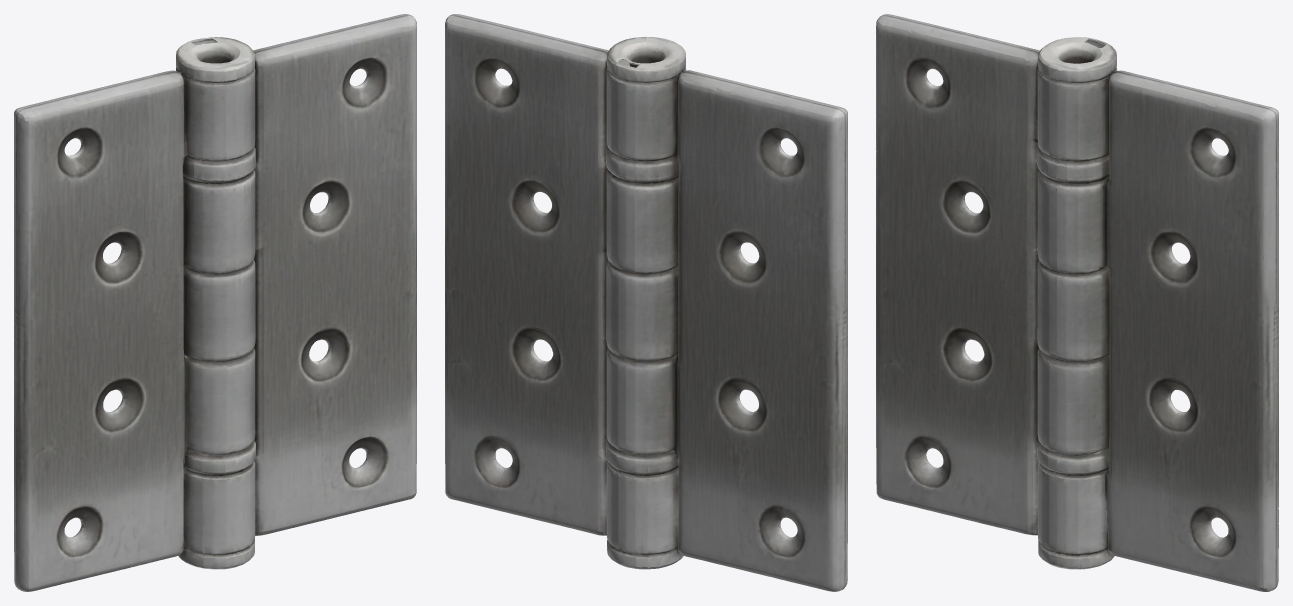
3 views of the same model, side by side, from view 1: azimuth 30°, elevation 25°; view 2: azimuth 150°, elevation 25°; view 3: azimuth 330°, elevation 25° (orthographic).
Parts seen in each view (by area): view 1: geometry_0; view 2: geometry_0; view 3: geometry_0.
Part boxes in pixels (bbox=[...]): geometry_0: bbox=[14, 14, 416, 591]; geometry_0: bbox=[445, 14, 847, 591]; geometry_0: bbox=[876, 14, 1278, 591].
Size of the model in its own units: 0.102 by 0.1228 by 0.0183.
1 material, 1 textured.
